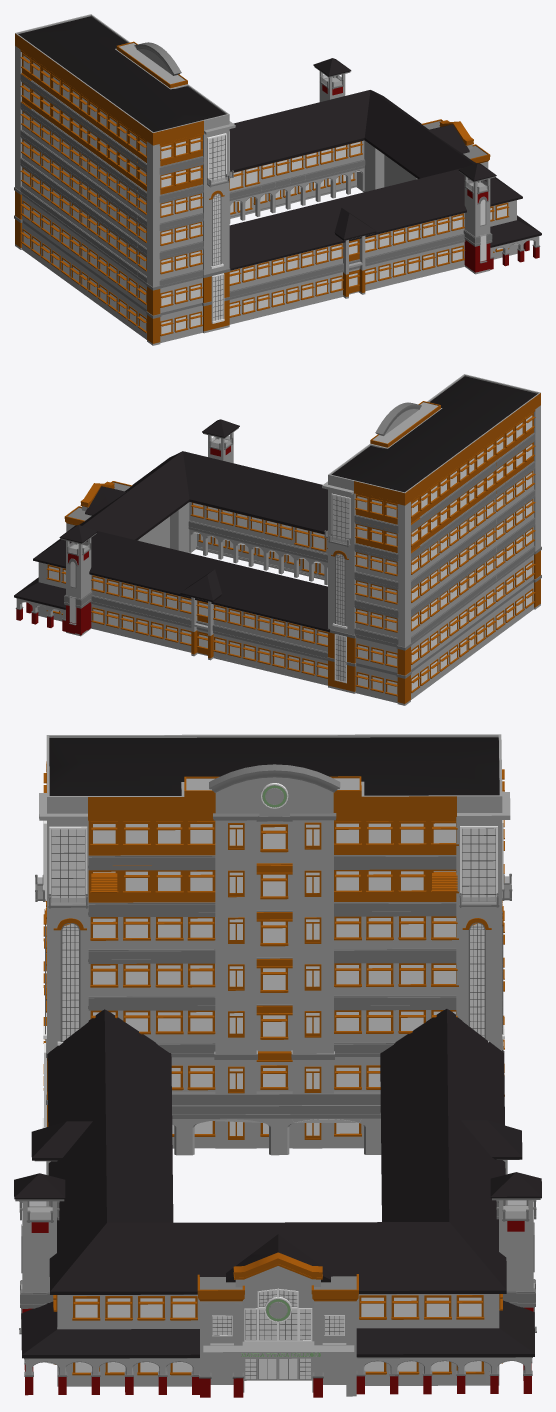
File: SM_TytanaCollege.fbx
3 views of the same model, one above another, from view 1: azimuth 30°, elevation 25°; view 2: azimuth 150°, elevation 25°; view 3: azimuth 270°, elevation 25° (orthographic). The views are drawn at different scales.
Parts seen in each view (by area): view 1: pCube2164; view 2: pCube2164; view 3: pCube2164.
Boxes of the visible parts, bbox=[...] form: pCube2164: bbox=[14, 14, 541, 345]; pCube2164: bbox=[14, 374, 541, 705]; pCube2164: bbox=[14, 734, 541, 1397].
Bounding box in the file's own units: 11027 × 6160 × 7748.
